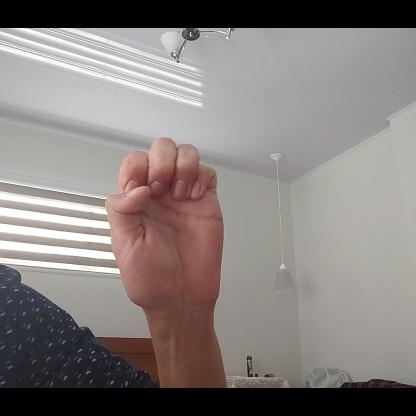E: (107, 135, 226, 310)
